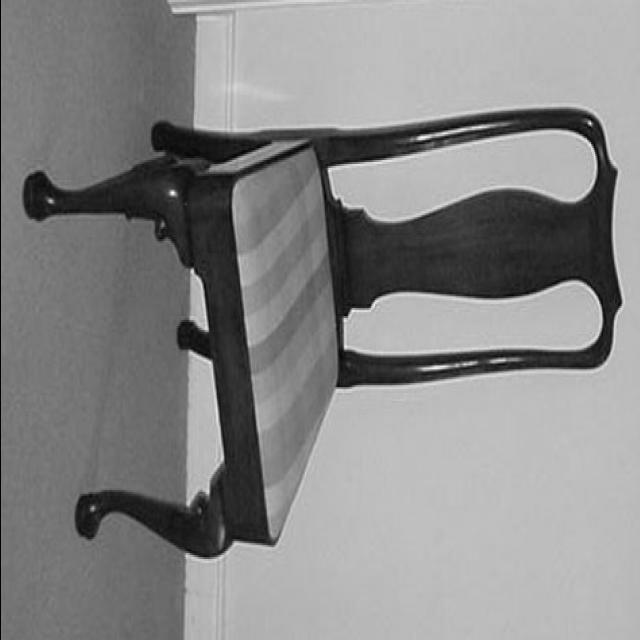chair: (20, 106, 624, 564)
